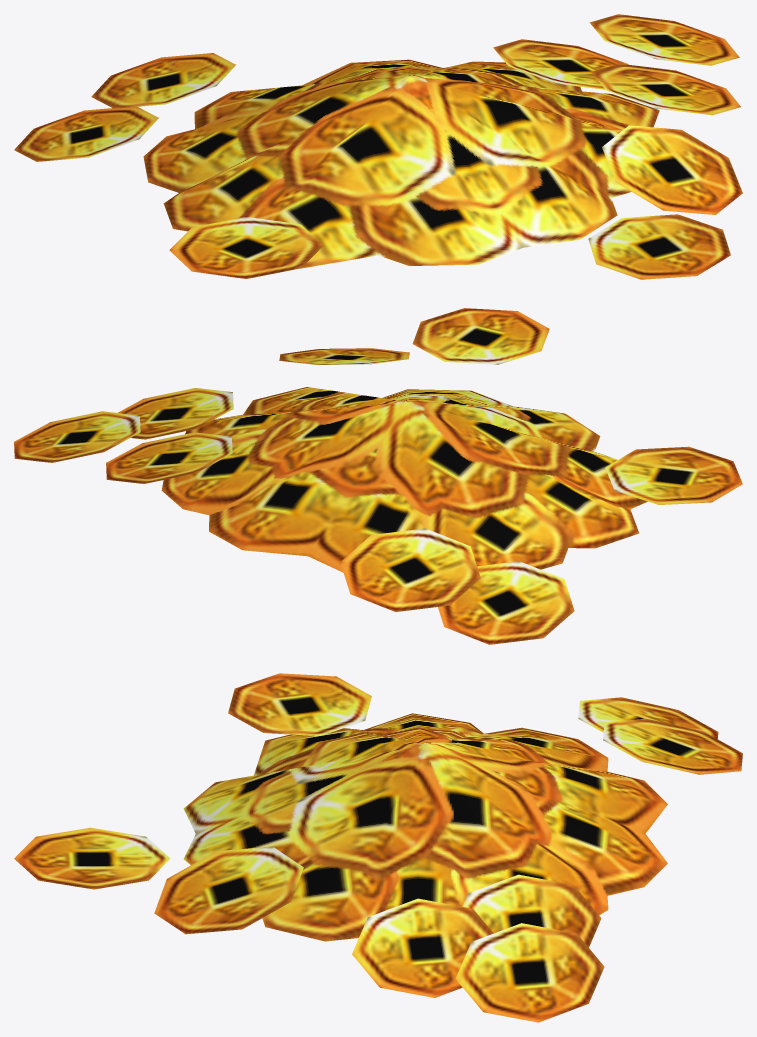
The model's file is pet_5709.FBX.
3 views of the same model, one above another, from view 1: azimuth 30°, elevation 25°; view 2: azimuth 150°, elevation 25°; view 3: azimuth 270°, elevation 25° (orthographic). The views are drawn at different scales.
Parts seen in each view (by area): view 1: pet_5709; view 2: pet_5709; view 3: pet_5709.
Boxes of the visible parts, bbox=[...] form: pet_5709: bbox=[14, 14, 742, 279]; pet_5709: bbox=[14, 308, 742, 644]; pet_5709: bbox=[14, 673, 742, 1022].
Bounding box in the file's own units: 51.3 × 7.46 × 48.32.
